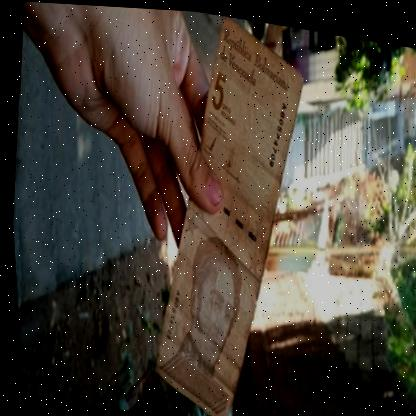five-front-vef: (128, 6, 324, 416)
